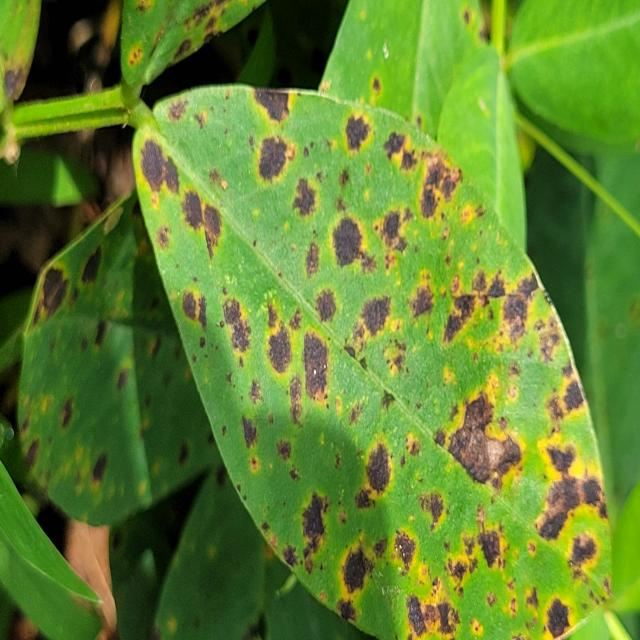Ground nut_tikka leaf spot: (136, 92, 613, 640), (21, 197, 258, 519), (122, 0, 268, 78)
